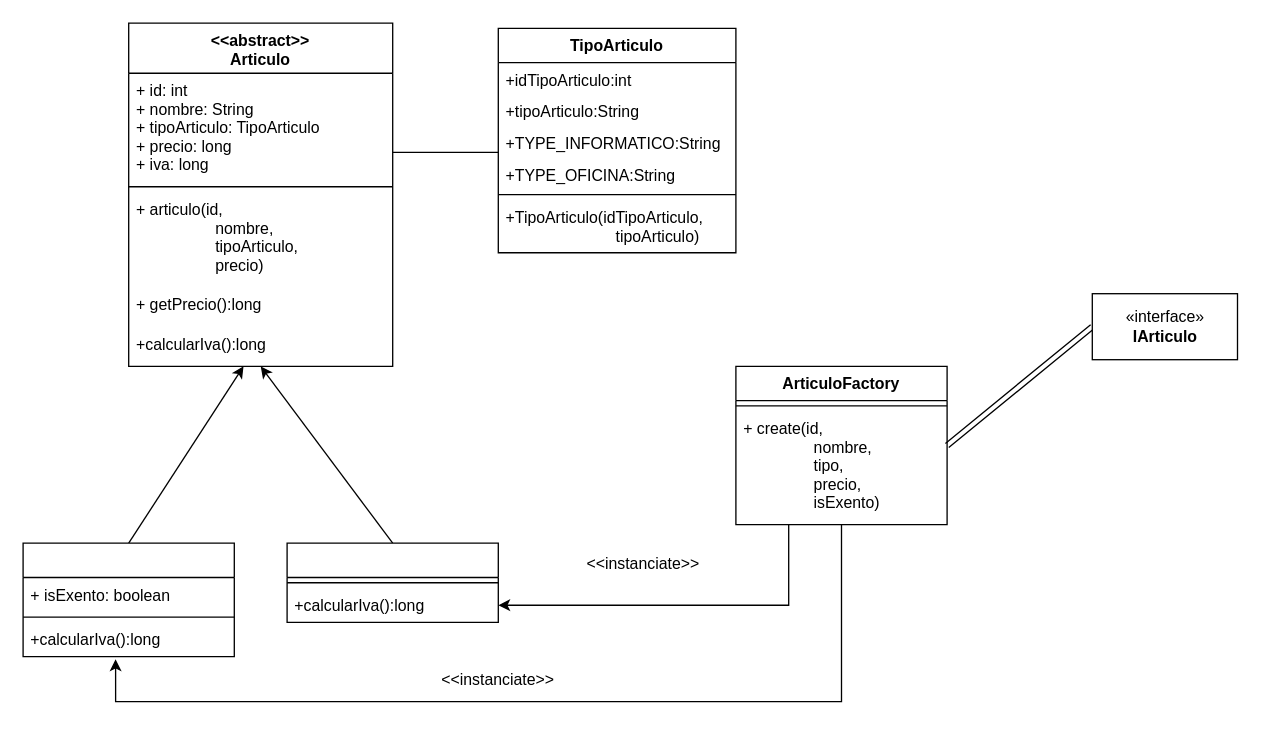
The diagram is 1261 pixels wide and 735 high, and some of its shapes have lost their labels. Here are the shapes that lost their labels. From the top down, the box of each, then its label:
(22, 542, 234, 657): ArticuloInformatico
(286, 542, 498, 622): ArticuloOficina
